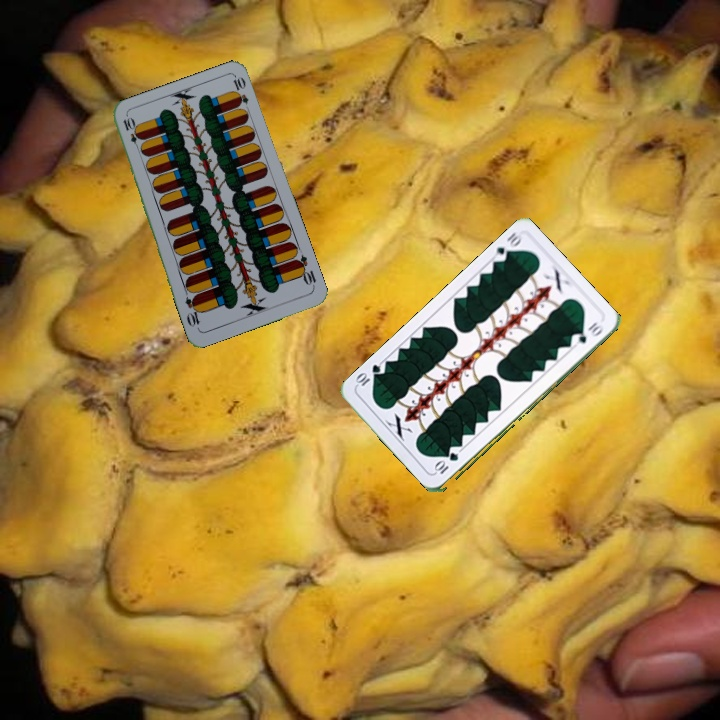E10: (291, 251, 319, 290), (119, 113, 143, 153)
G10: (489, 228, 524, 265), (431, 449, 461, 477)
